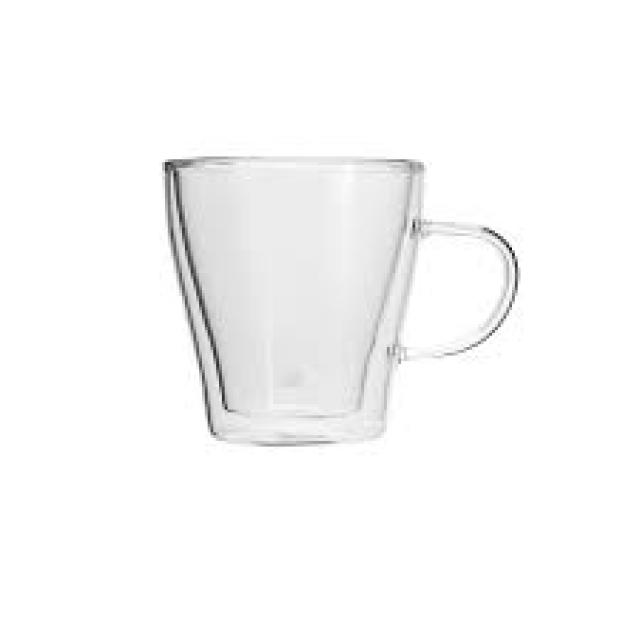Dry: (152, 147, 523, 453)
